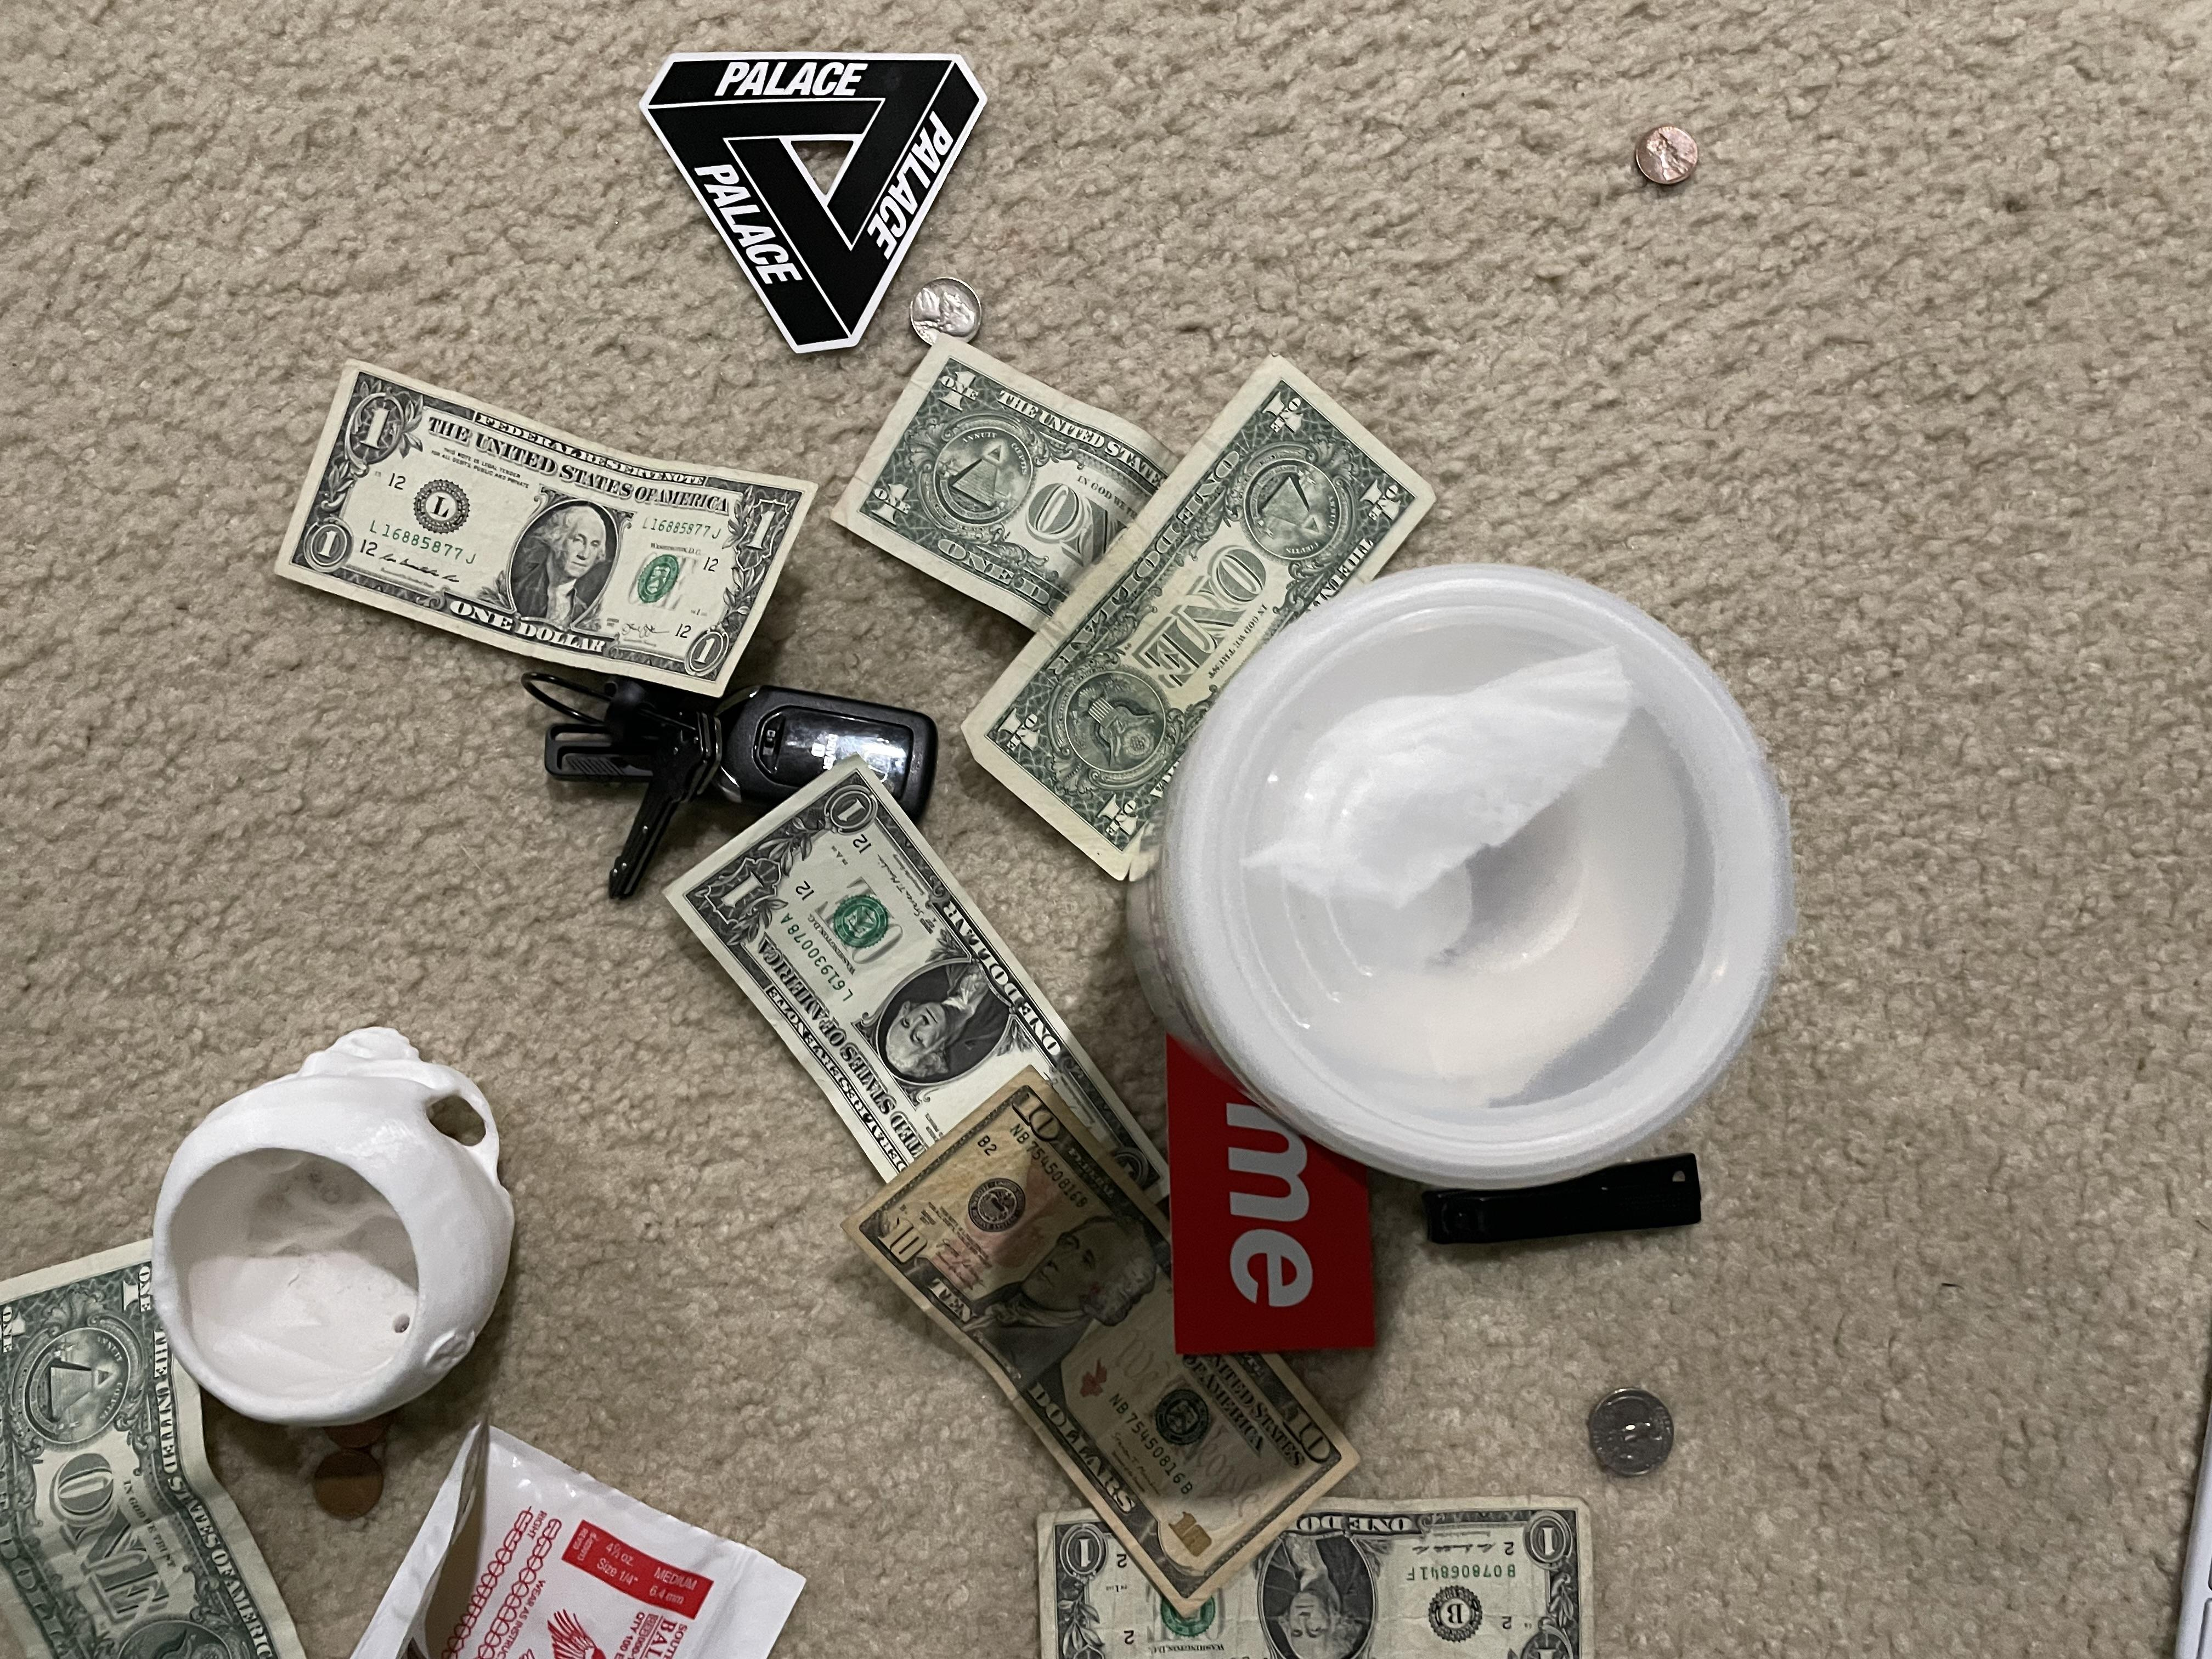Nickel: (913, 270, 991, 350)
OneBill: (657, 748, 1200, 1246), (951, 357, 1440, 882), (270, 357, 819, 725), (2, 1232, 326, 1657), (815, 324, 1193, 622), (1019, 1492, 1632, 1657), (1568, 1368, 1684, 1481)
Penny: (286, 1429, 394, 1535), (1629, 122, 1710, 195)
TenBill: (852, 1072, 1360, 1610)
